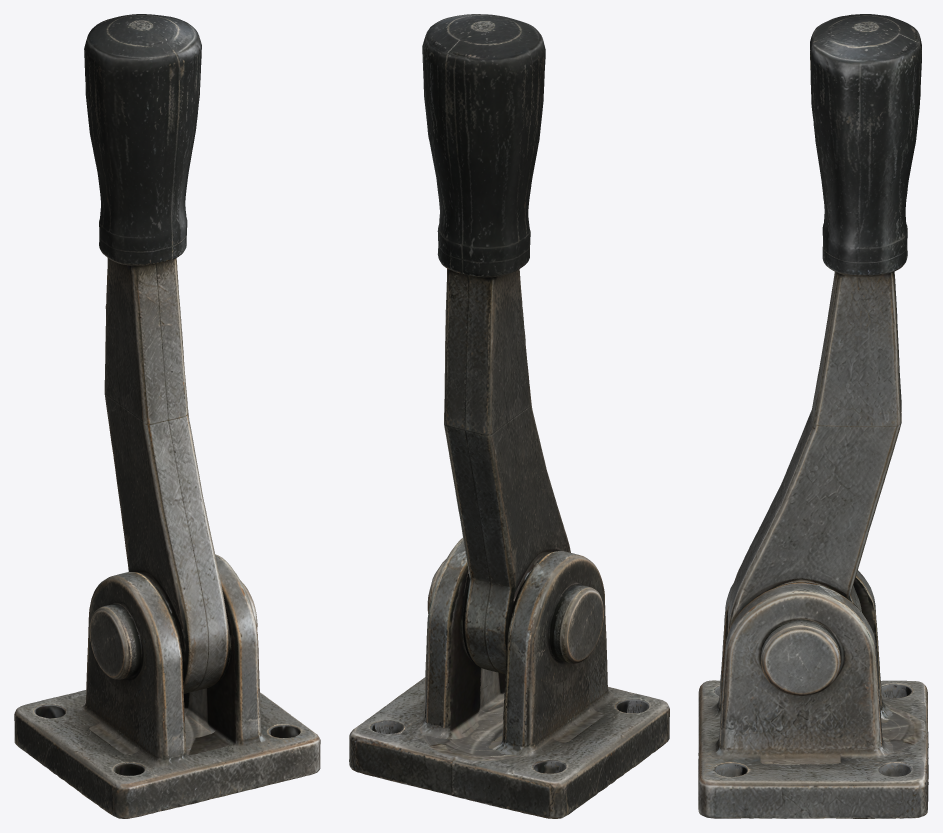
Rendered from BreakerLever.fbx.
3 renders of one model, left to right at view 1: azimuth 30°, elevation 25°; view 2: azimuth 150°, elevation 25°; view 3: azimuth 270°, elevation 25°, orthographic. The views are drawn at different scales.
Parts seen in each view (by area): view 1: texture_mapping; view 2: texture_mapping; view 3: texture_mapping.
Part boxes in pixels (x1,y1,x2,y2): texture_mapping: (14, 14, 320, 818); texture_mapping: (349, 14, 669, 818); texture_mapping: (698, 14, 928, 818).
Size of the model in its own units: 0.3037 by 0.2823 by 1.
1 material, 1 textured.
